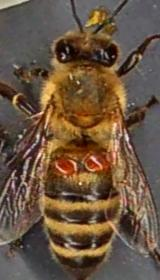varroa_mite: (79, 149, 118, 178), (47, 154, 82, 176)
